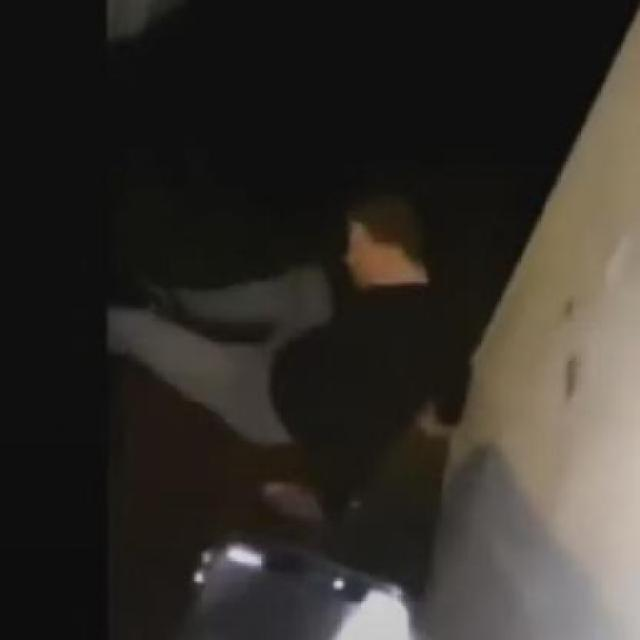fall: (114, 208, 477, 501)
